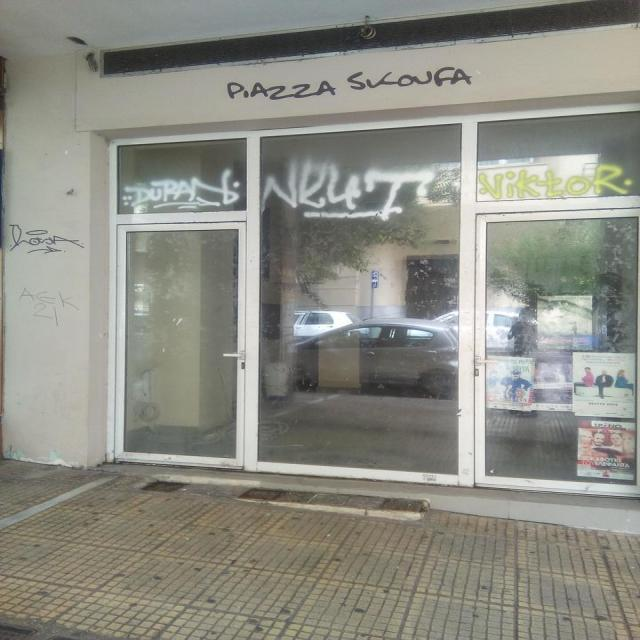nonspitting: (261, 157, 458, 219), (226, 65, 473, 101), (481, 165, 632, 198), (122, 170, 237, 210), (12, 223, 82, 256), (20, 288, 80, 324)
